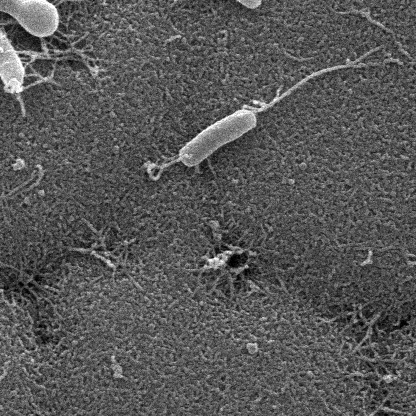cell2surface: (263, 49, 390, 112)
curved: (0, 0, 59, 38)
regular: (181, 105, 259, 164), (0, 3, 26, 92), (183, 0, 263, 11)
